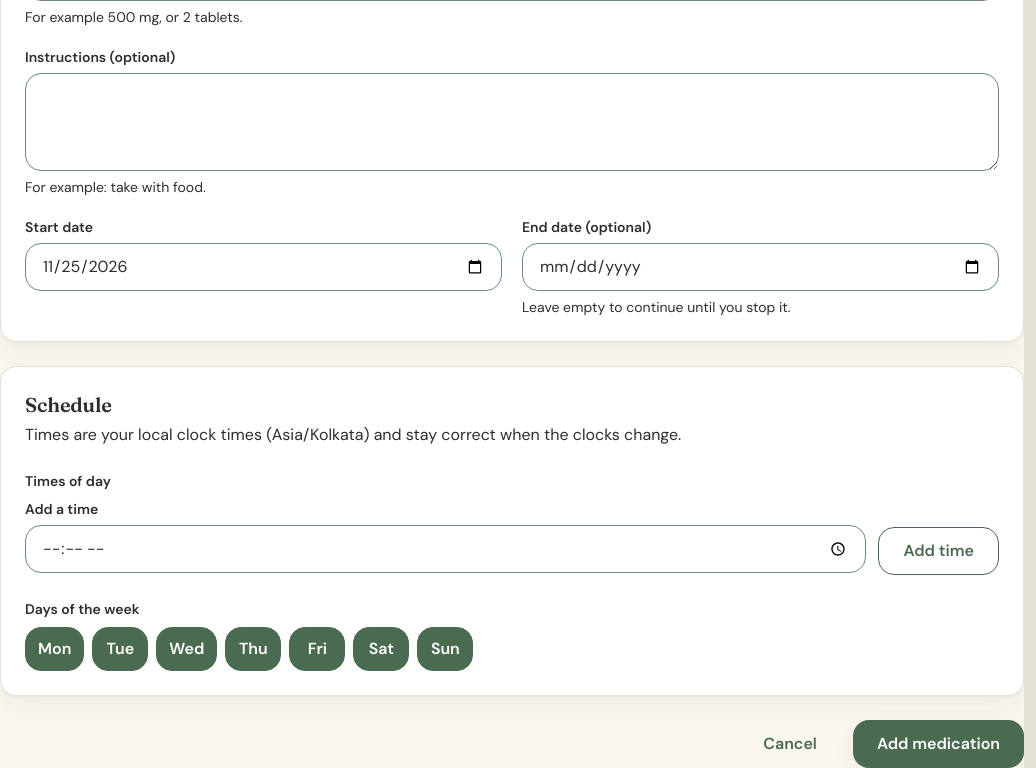
it: time chips › adds times as chips, kept in order
(page scrolled)
In the time field labelled "Add a time": (446, 549) [25, 525, 866, 573], type "20:00"
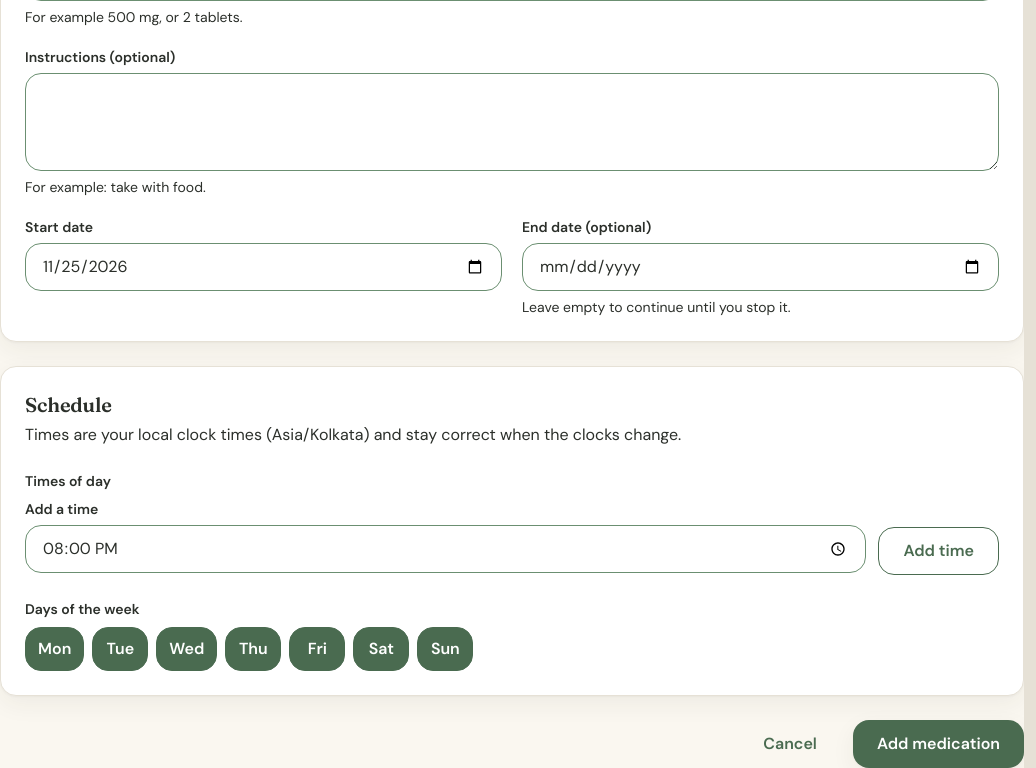
Click the button "Add time": (939, 551) [878, 527, 999, 575]
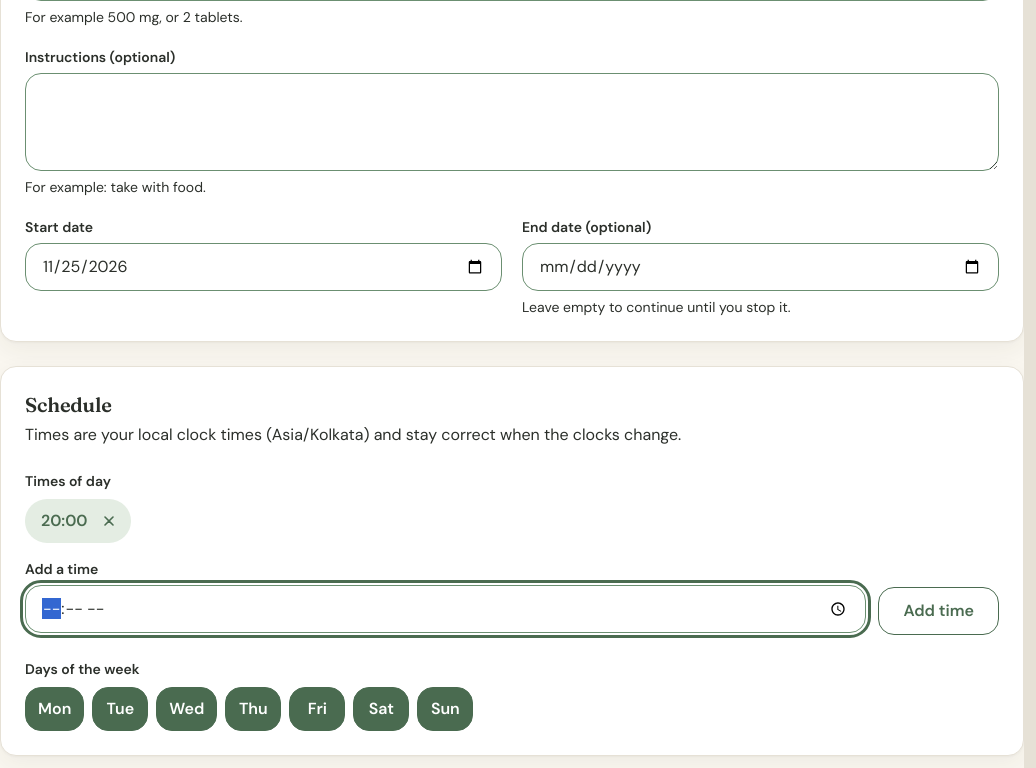
In the time field labelled "Add a time": (446, 609) [25, 585, 866, 633], type "08:00"
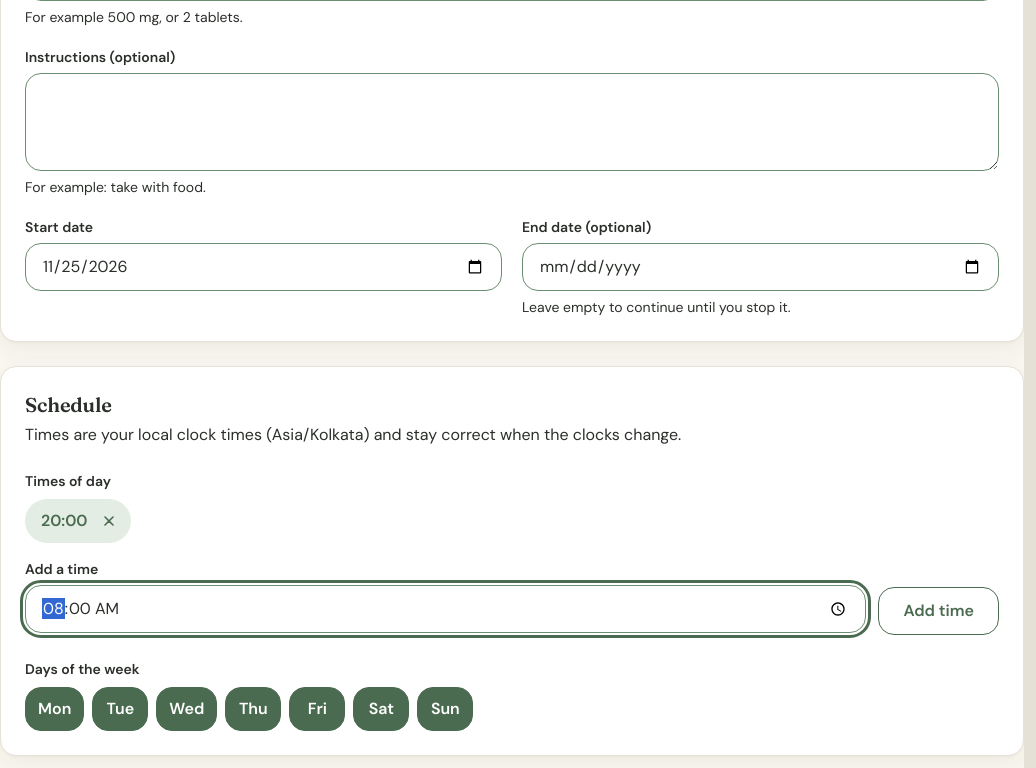
Click the button "Add time": (939, 611) [878, 587, 999, 635]
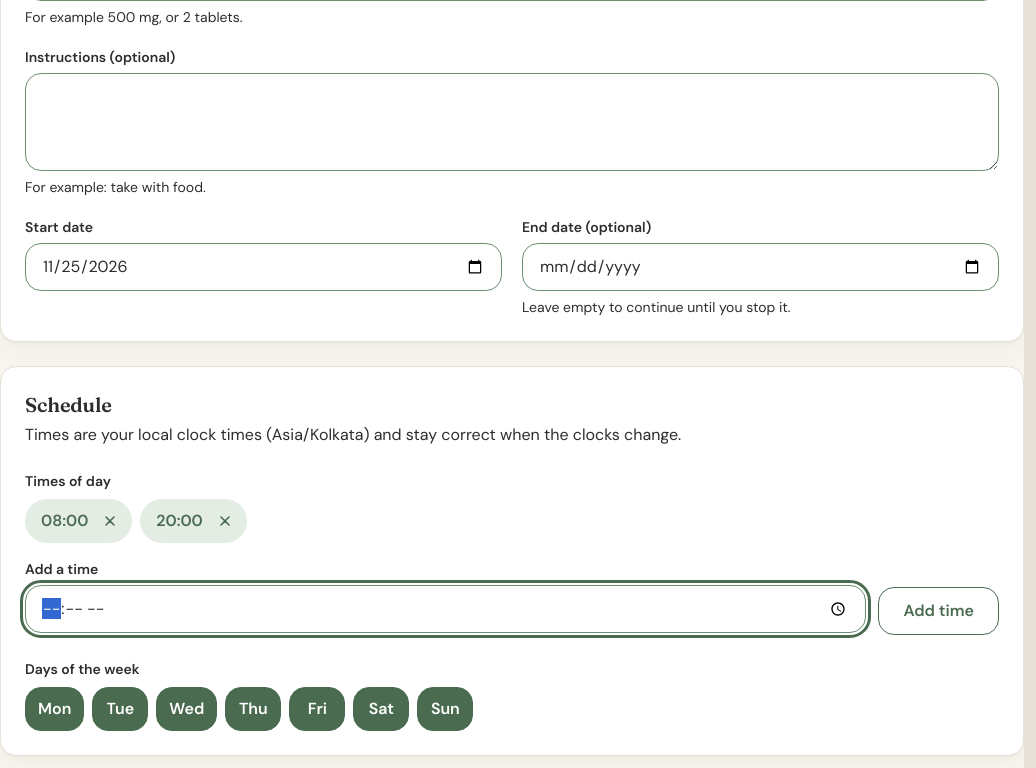
Check: the list items read "08:00", "20:00", in this order, box [25, 499, 132, 543]; [140, 499, 247, 543]
